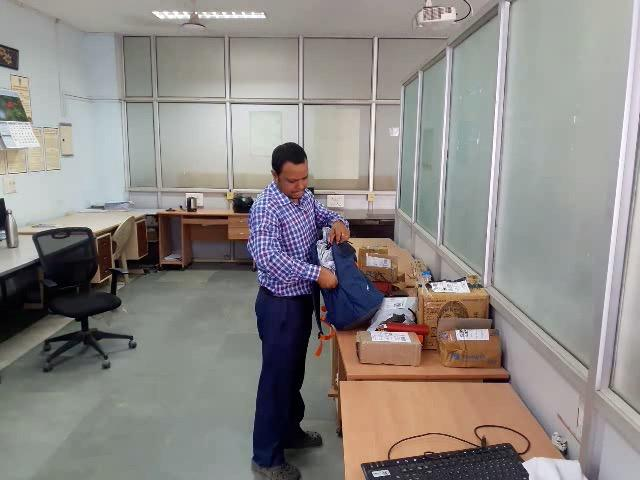shoplifting: (212, 202, 388, 321)
